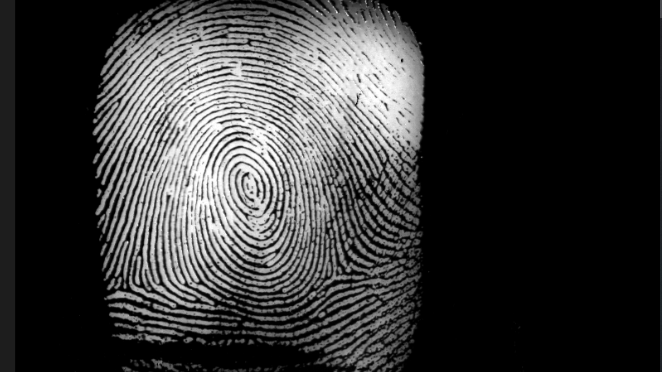deltas: (311, 232, 365, 295), (107, 242, 153, 303)
nucleo: (218, 152, 281, 211)
